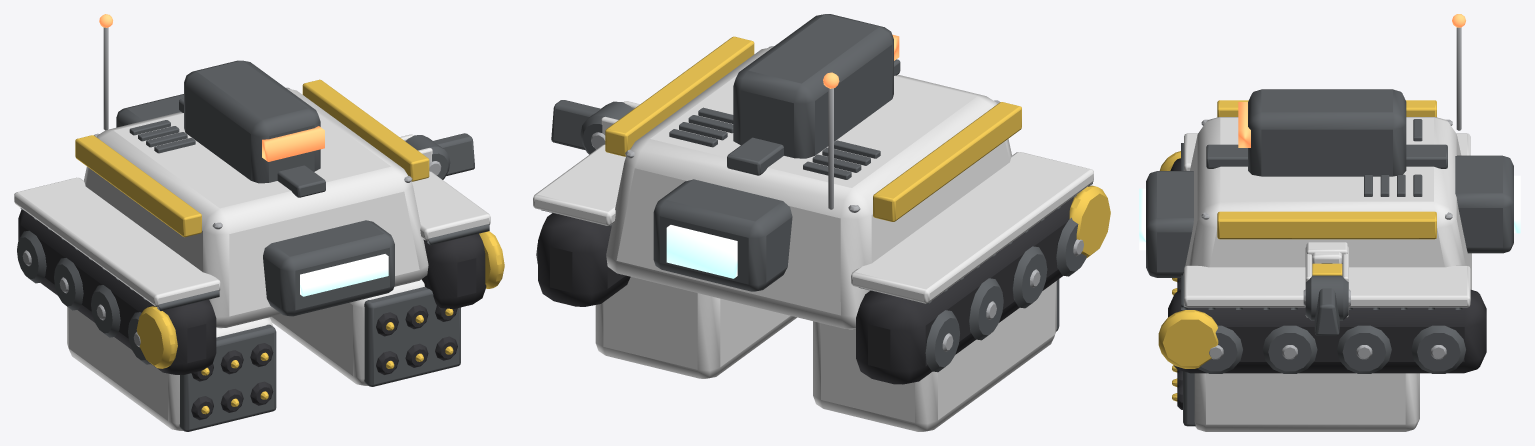
File: missile.glb
The picture shows the model from 3 angles, left to right: view 1: azimuth 30°, elevation 25°; view 2: azimuth 150°, elevation 25°; view 3: azimuth 270°, elevation 25°; orthographic projection. The views are drawn at different scales.
Visible parts, largest first — view 1: Hull, Barrel, Turret, LegLower, LegUpper; view 2: Hull, Barrel, Turret, LegLower, LegUpper; view 3: Hull, Turret, Barrel, LegUpper, LegLower.
Part boxes in pixels (x1,y1,x2,y2): Hull: (14,14,504,374); Barrel: (67,279,460,431); Turret: (184,60,324,183); LegLower: (433,133,474,175); LegUpper: (400,134,450,179); Hull: (533,36,1110,384); Barrel: (595,277,1059,431); Turret: (733,14,899,158); LegLower: (551,100,600,150); LegUpper: (580,101,639,154); Hull: (1139,14,1520,373); Turret: (1238,89,1406,176); Barrel: (1172,278,1419,431); LegUpper: (1303,242,1350,320); LegLower: (1312,252,1342,335).
Bounding box in the file's own units: 0.821 × 0.6285 × 0.694.
